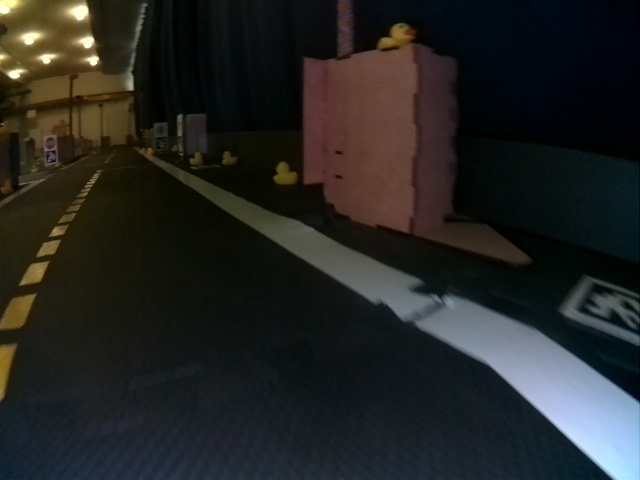Duckie: (380, 24, 412, 46), (273, 163, 296, 183), (222, 152, 237, 165), (191, 153, 203, 165), (30, 164, 39, 173), (147, 147, 155, 156), (140, 146, 146, 153)
Intersection sign: (154, 123, 167, 136)
QR code: (562, 276, 638, 341), (45, 151, 57, 165), (156, 137, 166, 149), (177, 137, 184, 153)
Stop sign: (45, 136, 56, 149)
